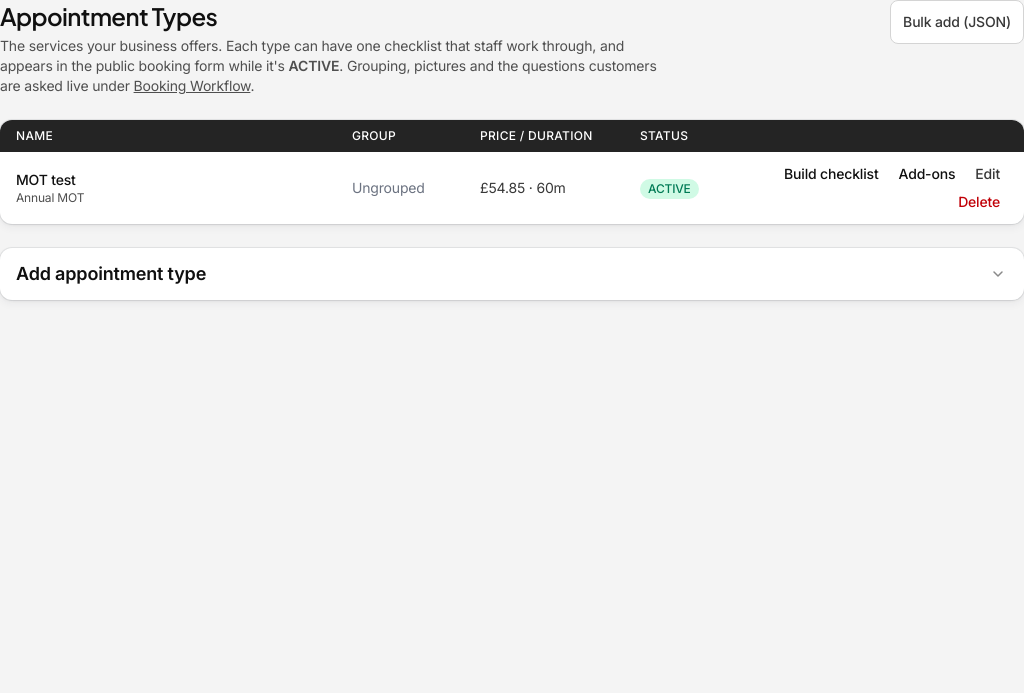
Test: AppointmentTypesList — editing › keeps the owner-only message visible when a save is refused
Click the button "Edit": (988, 174) [967, 160, 1008, 188]
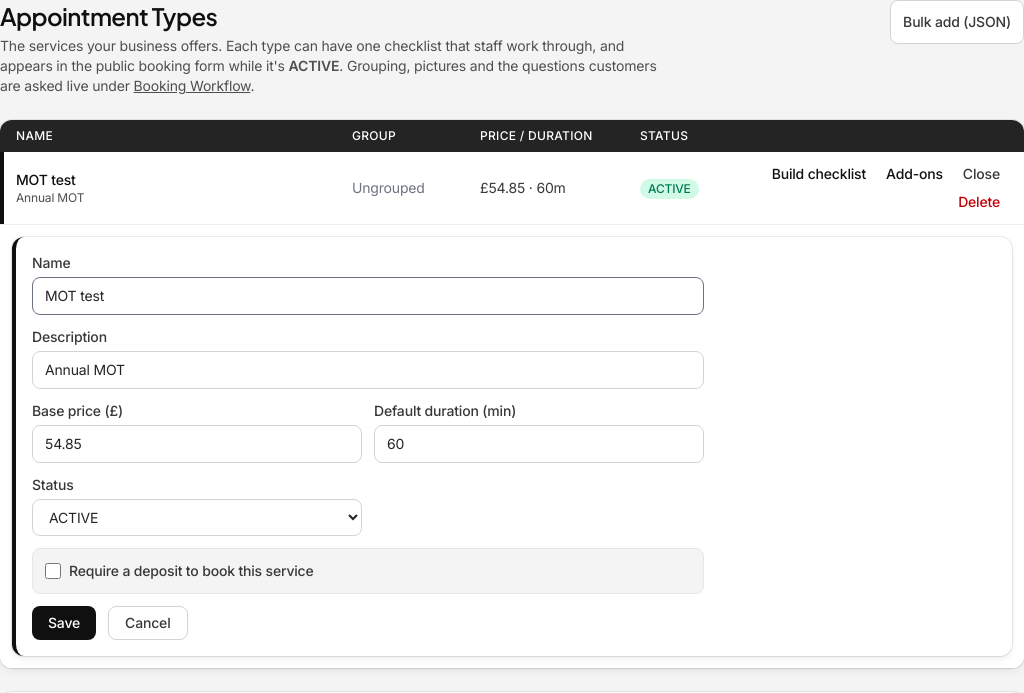
Click the button "Save": (64, 623) [32, 606, 96, 640]
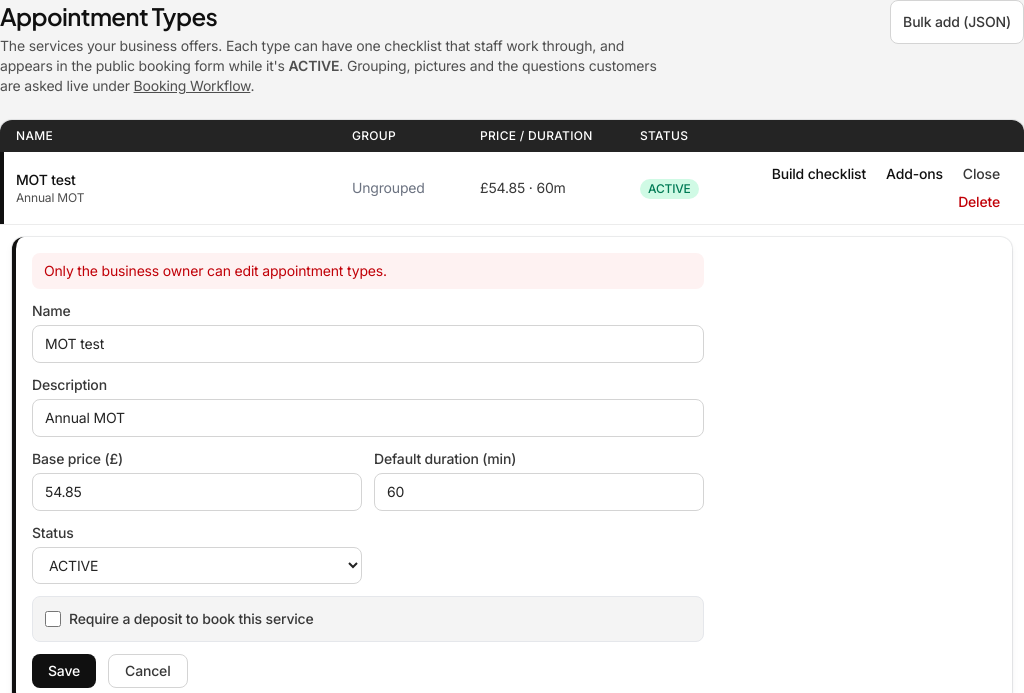
expect the text "Only the business owner can edit appointment types." is shown: met, box [32, 253, 704, 289]
